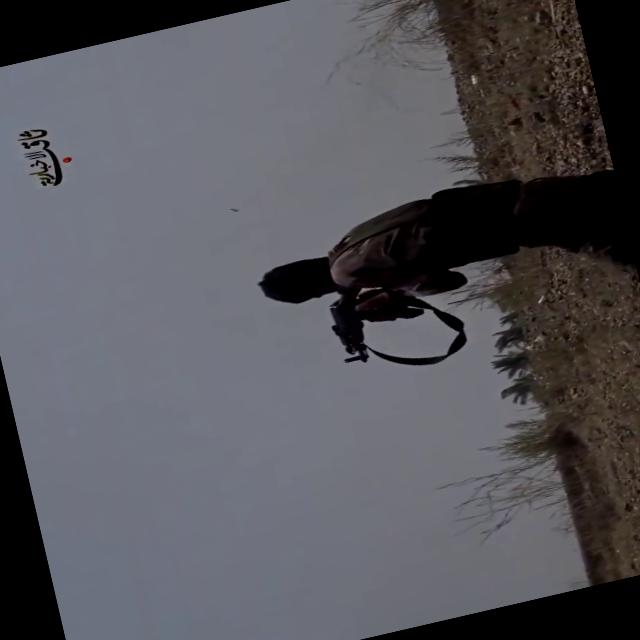long weapon: (309, 278, 431, 382)
